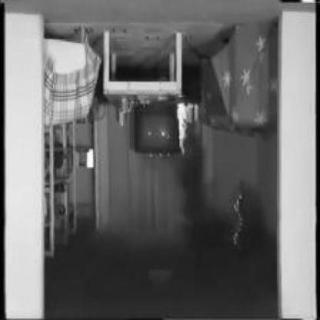Fire: (175, 100, 201, 158)
Smoke: (54, 235, 274, 317)
